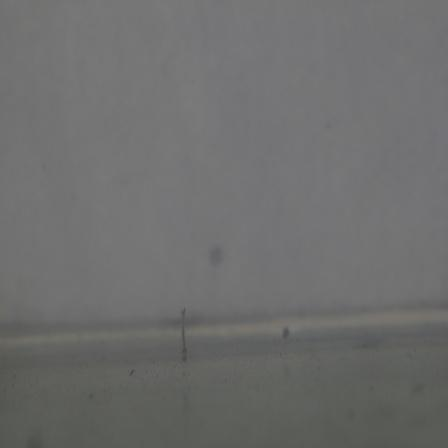Jentik-Nyamuk: (176, 303, 191, 367)
